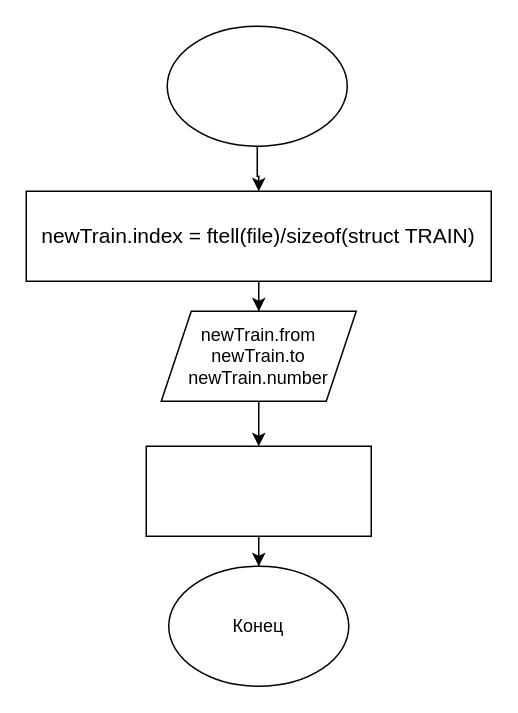
The diagram is 518 pixels wide and 713 high, and some of its shapes have lost their labels. Here are the shapes that lost their labels. From the top down, the centre of each, then its label:
point (256, 85): Начало setTrain
point (258, 490): newTrain.time = setTime()
